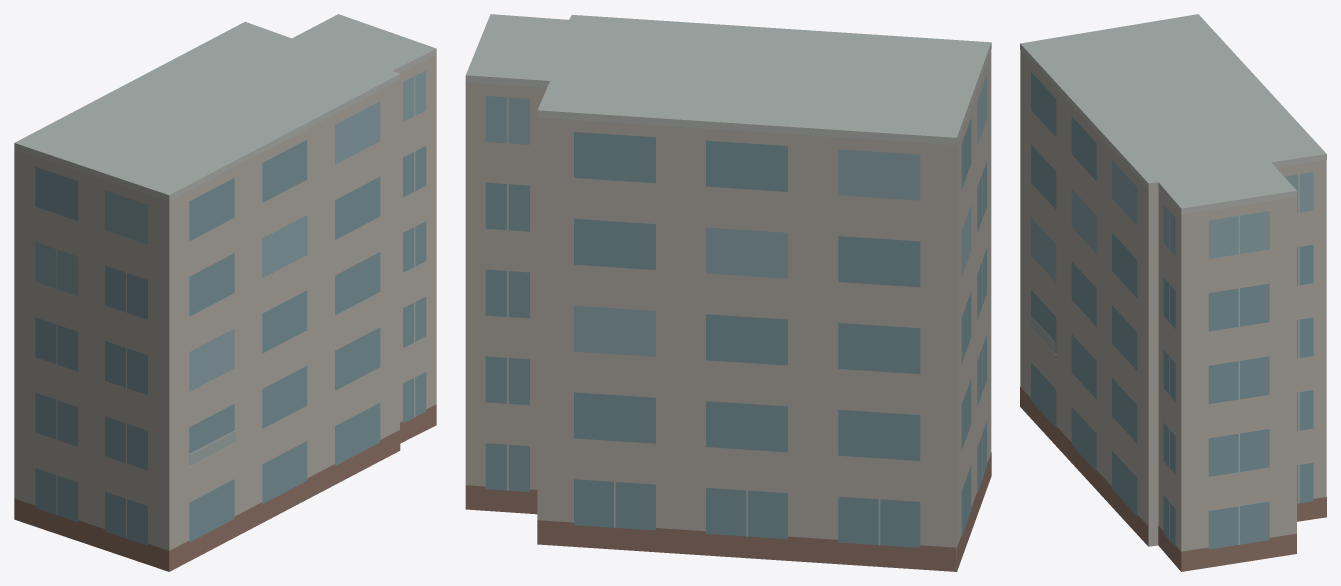
Rendered from survey-upis-32463931.glb.
The picture shows the model from 3 angles, left to right: view 1: azimuth 30°, elevation 25°; view 2: azimuth 150°, elevation 25°; view 3: azimuth 270°, elevation 25°; orthographic projection. The views are drawn at different scales.
Visible parts, largest first — view 1: survey-upis-32463931.tmp; view 2: survey-upis-32463931.tmp; view 3: survey-upis-32463931.tmp.
Part boxes in pixels (bbox=[...]): survey-upis-32463931.tmp: bbox=[14, 14, 436, 571]; survey-upis-32463931.tmp: bbox=[465, 14, 991, 571]; survey-upis-32463931.tmp: bbox=[1020, 14, 1326, 571].
Bounding box in the file's own units: 16.9 × 14.7 × 11.26.
